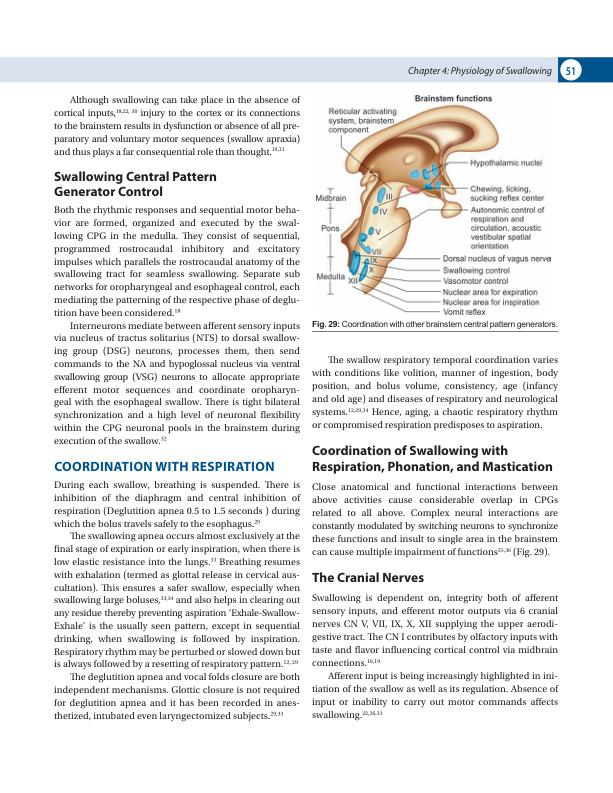caption: (311, 320, 558, 329)
header: (406, 65, 554, 77)
image: (309, 90, 556, 318)
section-heading: (53, 459, 276, 473)
sub-section-heading: (311, 443, 554, 476), (53, 169, 218, 198), (309, 570, 426, 585)
text: (53, 479, 302, 723), (53, 204, 301, 446), (310, 592, 562, 721), (310, 480, 560, 559), (310, 354, 560, 432), (52, 94, 302, 159)
